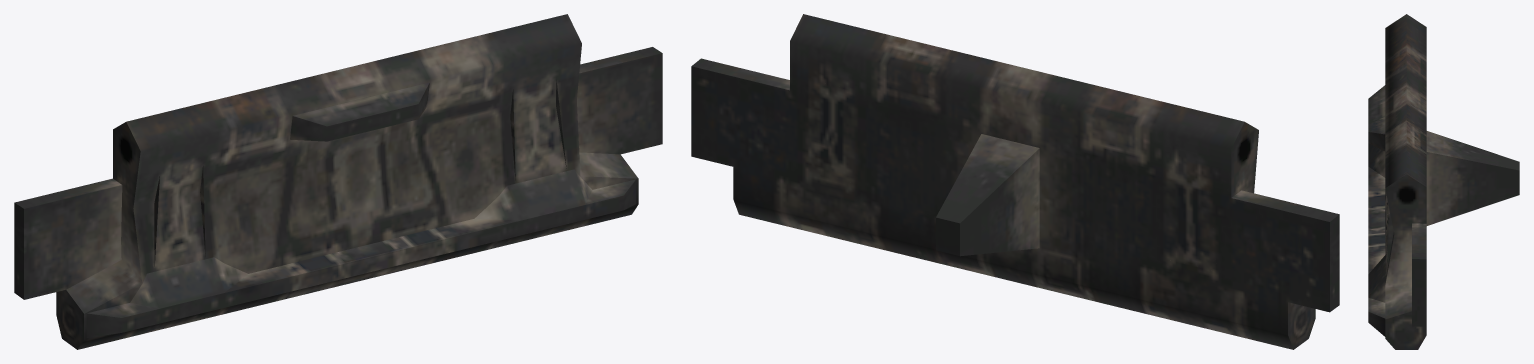
3 views of the same model, side by side, from view 1: azimuth 30°, elevation 25°; view 2: azimuth 150°, elevation 25°; view 3: azimuth 270°, elevation 25° (orthographic). The views are drawn at different scales.
Parts seen in each view (by area): view 1: set_0_group_0; view 2: set_0_group_0; view 3: set_0_group_0.
Boxes of the visible parts, x1,y1,x2,y2 form: set_0_group_0: (14, 14, 662, 349); set_0_group_0: (691, 14, 1339, 349); set_0_group_0: (1368, 14, 1519, 349).
Size of the model in its own units: 0.7 by 0.2188 by 0.1932.
Materials: 1 (1 with a texture image).
